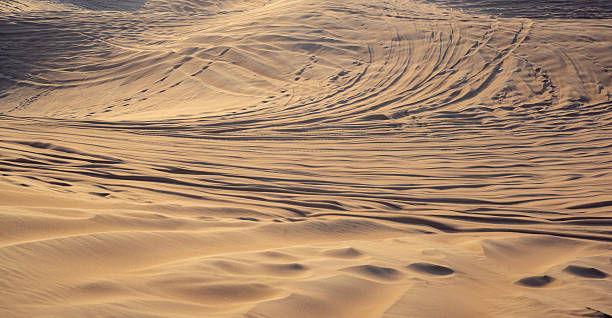human_footprint: (10, 20, 570, 216), (197, 273, 282, 304), (406, 254, 454, 282), (349, 258, 400, 284), (259, 261, 322, 282), (522, 271, 558, 301), (562, 258, 609, 280), (331, 242, 365, 262)
